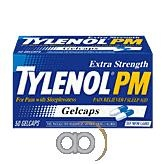grozi_60: (11, 34, 152, 128)
